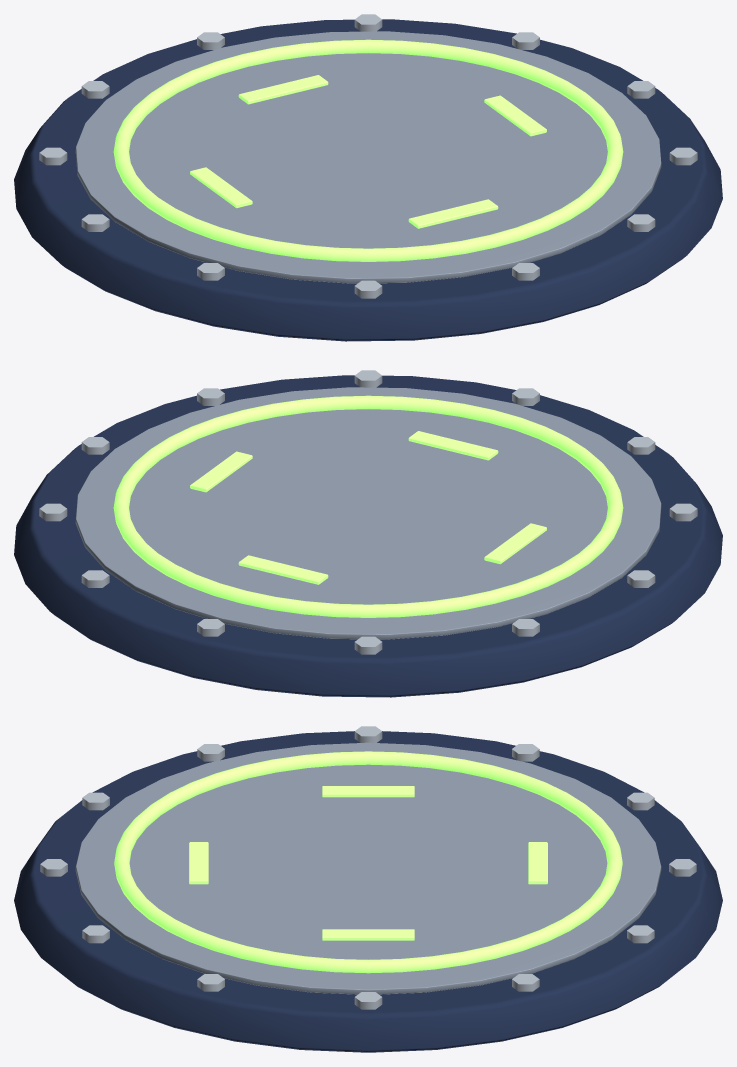
The model's file is socket_ground_empty.glb.
3 renders of one model, top to bottom at view 1: azimuth 30°, elevation 25°; view 2: azimuth 150°, elevation 25°; view 3: azimuth 270°, elevation 25°, orthographic.
Visible parts, largest first — view 1: socket_ground_empty_inlay, socket_ground_empty_plate, socket_ground_empty_ring, socket_ground_empty_bolts, socket_ground_empty_tick1, socket_ground_empty_tick3, socket_ground_empty_tick0, socket_ground_empty_tick2; view 2: socket_ground_empty_inlay, socket_ground_empty_plate, socket_ground_empty_ring, socket_ground_empty_bolts, socket_ground_empty_tick3, socket_ground_empty_tick1, socket_ground_empty_tick0, socket_ground_empty_tick2; view 3: socket_ground_empty_inlay, socket_ground_empty_plate, socket_ground_empty_ring, socket_ground_empty_bolts, socket_ground_empty_tick0, socket_ground_empty_tick2, socket_ground_empty_tick1, socket_ground_empty_tick3.
Part boxes in pixels (left/top/right/bottom): socket_ground_empty_inlay: left=75, top=31, right=661, bottom=283; socket_ground_empty_plate: left=14, top=19, right=722, bottom=341; socket_ground_empty_ring: left=113, top=39, right=623, bottom=261; socket_ground_empty_bolts: left=39, top=14, right=697, bottom=298; socket_ground_empty_tick1: left=408, top=199, right=498, bottom=228; socket_ground_empty_tick3: left=238, top=75, right=328, bottom=104; socket_ground_empty_tick0: left=484, top=95, right=546, bottom=136; socket_ground_empty_tick2: left=190, top=167, right=252, bottom=208; socket_ground_empty_inlay: left=75, top=387, right=661, bottom=639; socket_ground_empty_plate: left=14, top=375, right=722, bottom=697; socket_ground_empty_ring: left=113, top=395, right=623, bottom=617; socket_ground_empty_bolts: left=39, top=370, right=697, bottom=654; socket_ground_empty_tick3: left=238, top=555, right=328, bottom=584; socket_ground_empty_tick1: left=408, top=431, right=498, bottom=460; socket_ground_empty_tick0: left=190, top=451, right=252, bottom=492; socket_ground_empty_tick2: left=484, top=523, right=546, bottom=564; socket_ground_empty_inlay: left=75, top=742, right=661, bottom=994; socket_ground_empty_plate: left=14, top=731, right=722, bottom=1052; socket_ground_empty_ring: left=114, top=751, right=622, bottom=973; socket_ground_empty_bolts: left=40, top=726, right=696, bottom=1009; socket_ground_empty_tick0: left=322, top=929, right=414, bottom=940; socket_ground_empty_tick2: left=322, top=786, right=414, bottom=797; socket_ground_empty_tick1: left=189, top=842, right=208, bottom=884; socket_ground_empty_tick3: left=528, top=842, right=547, bottom=884.
Size of the model in its own units: 2.3 by 0.175 by 2.3.
